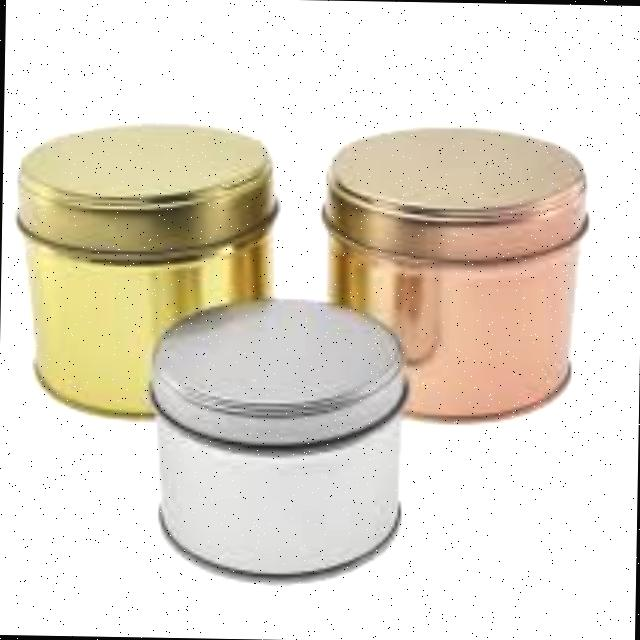Metal: (316, 121, 590, 422), (11, 120, 280, 422), (146, 296, 410, 585)
